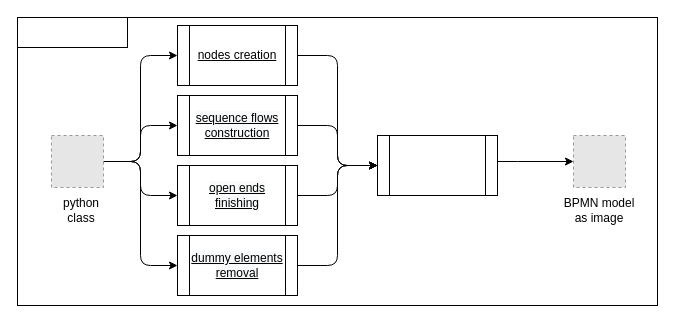
Some shapes in this 675 by 323 pixel diagram are drawn without their labels. Grey dashed boxes stand in for pictures. Here are the shapes that lost their labels. From the top down, the centre of each, then its label:
[72,32]: post-processing
[437,165]: BPMN model generation BPMN library
